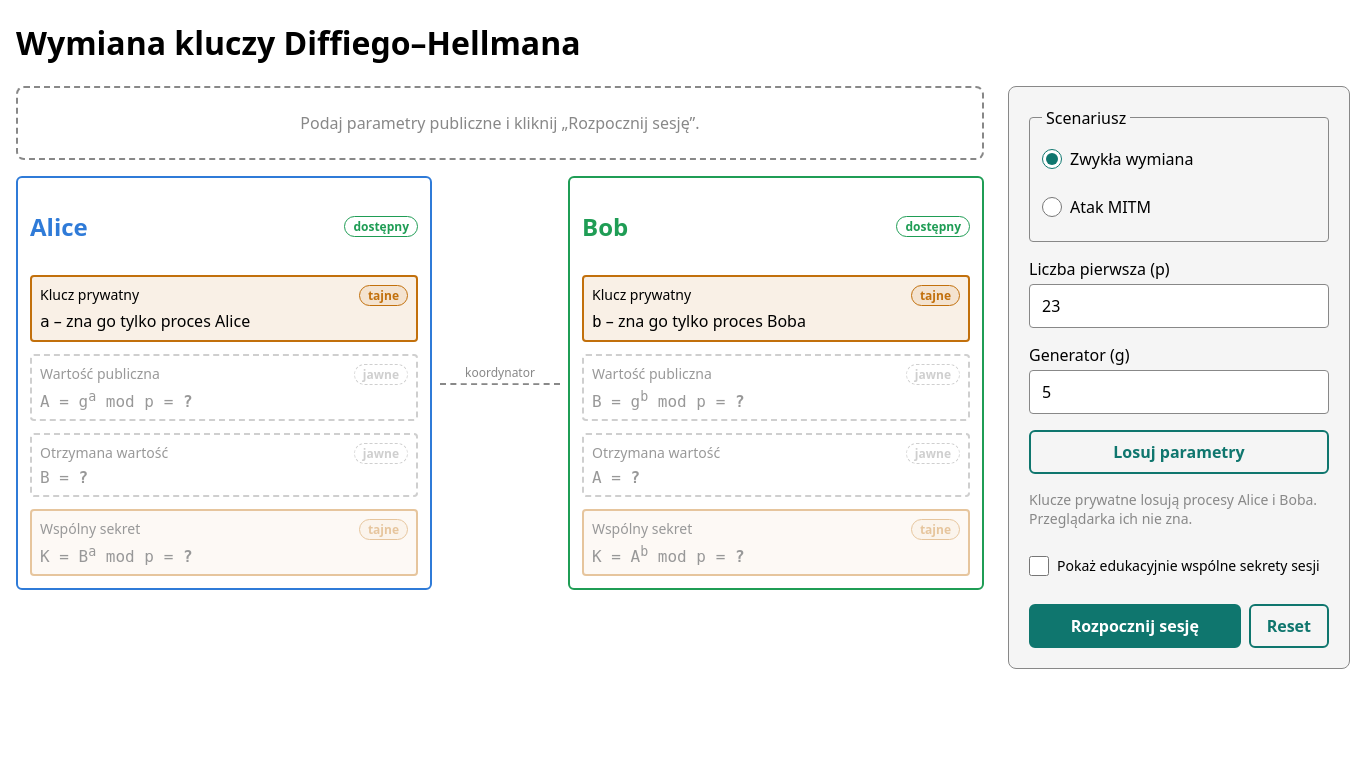
it: DH – losowanie p, g › błąd losowania nie zmienia wpisanych wartości
This screenshot has width=1366, height=768.
Replace the text in the field labelled "Liczba pierwsza (p)" with "29" at (1179, 306), box [1029, 284, 1329, 328]
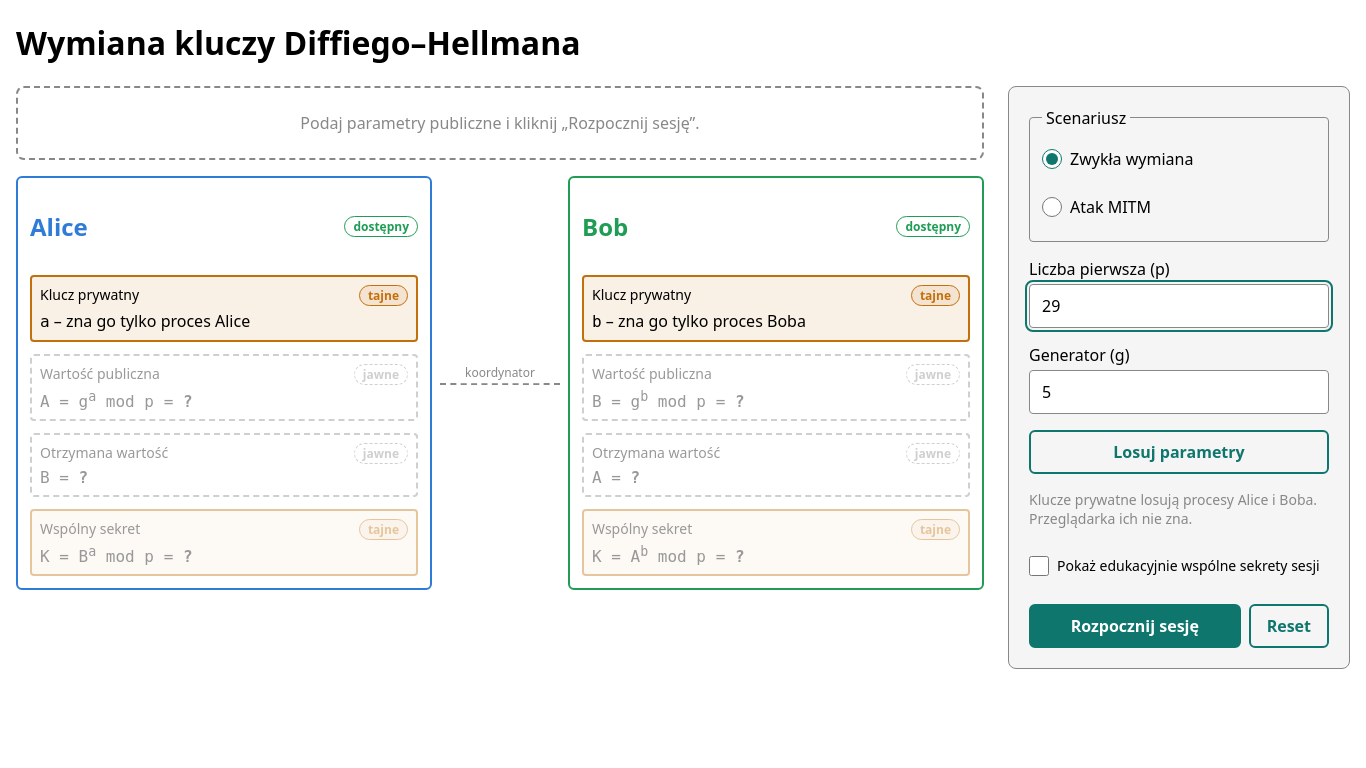
Click the button "Losuj parametry" at (1179, 452), box [1029, 430, 1329, 474]
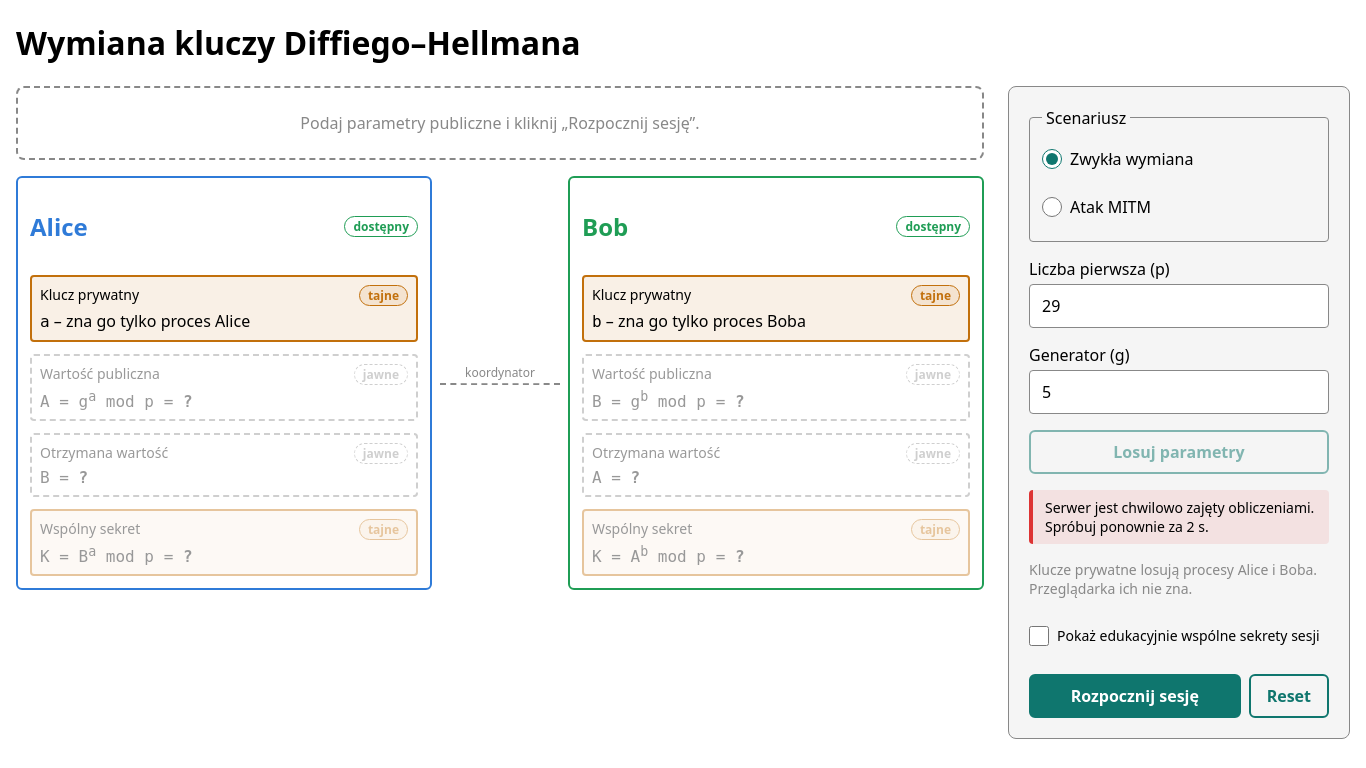
Expected: the text "Serwer jest chwilowo zajęty obliczeniami. Spróbuj ponownie za 2 s." is shown, [1029, 490, 1329, 544]
